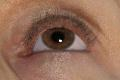eye: (42, 27, 75, 50)
